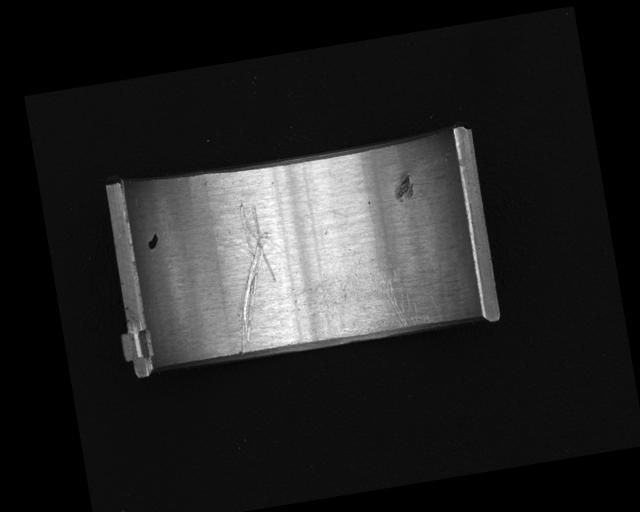blot: (144, 231, 161, 250)
bruise: (391, 172, 416, 202)
nick: (213, 197, 289, 354)
scratch: (314, 245, 436, 341)
